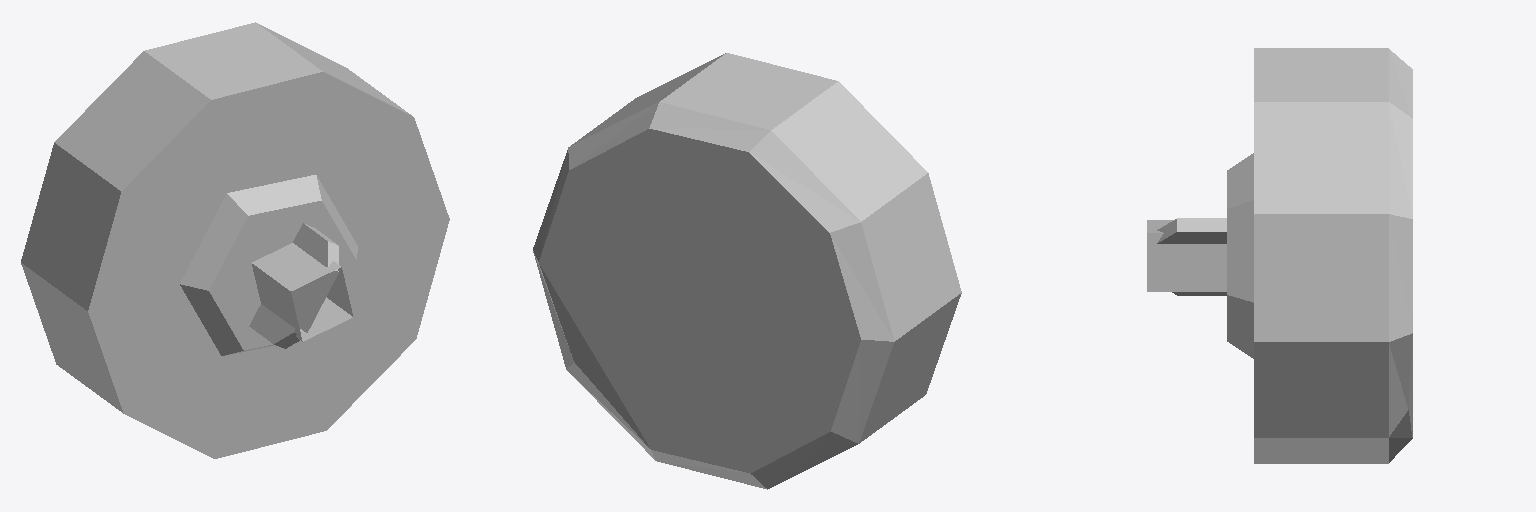
The model's file is wheel166.obj.
3 renders of one model, left to right at view 1: azimuth 30°, elevation 25°; view 2: azimuth 150°, elevation 25°; view 3: azimuth 270°, elevation 25°, orthographic.
Parts seen in each view (by area): view 1: wheel_low_textures; view 2: wheel_low_textures; view 3: wheel_low_textures.
Part boxes in pixels (x1,y1,x2,y2): wheel_low_textures: (21,22,449,458); wheel_low_textures: (533,53,961,489); wheel_low_textures: (1147,48,1412,463).
Bounding box in the file's own units: 1.56 × 1.49 × 0.9907.